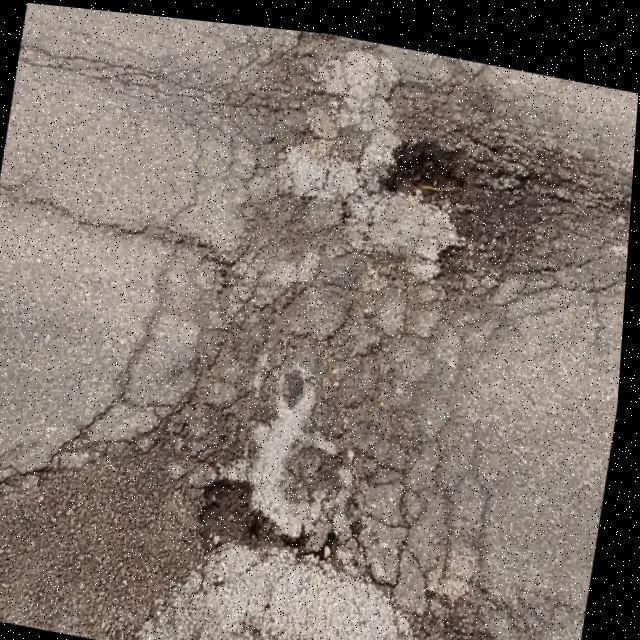Pothole: (0, 437, 283, 640), (377, 121, 560, 283)
